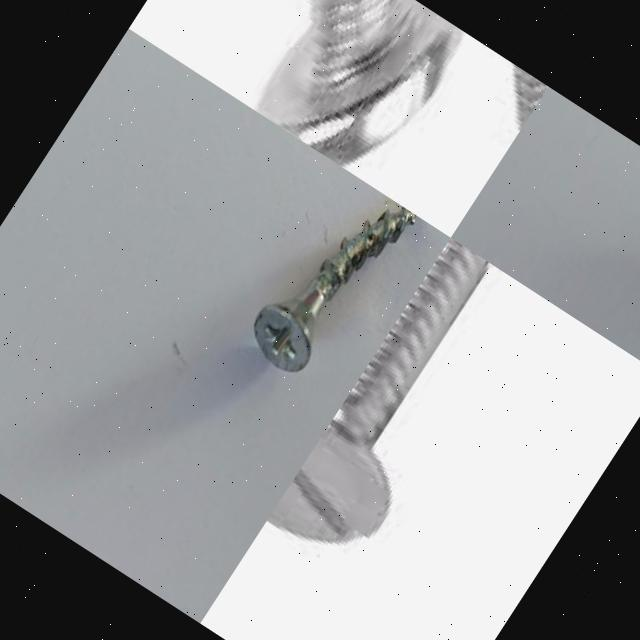Screw: (268, 237, 491, 543), (257, 0, 466, 169), (253, 207, 416, 373)
